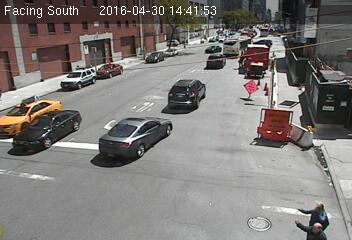neg: (198, 43, 216, 67), (73, 99, 89, 121), (125, 113, 140, 133), (227, 80, 241, 99)
pos: (304, 198, 331, 234), (307, 220, 322, 239)
